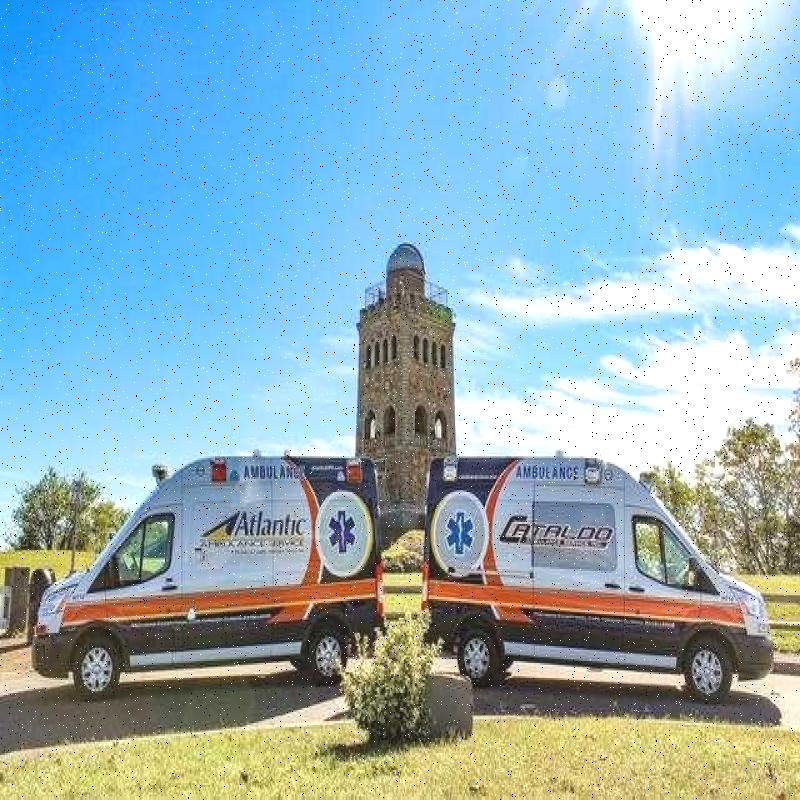ambulance: (25, 418, 396, 719), (426, 444, 788, 722)
